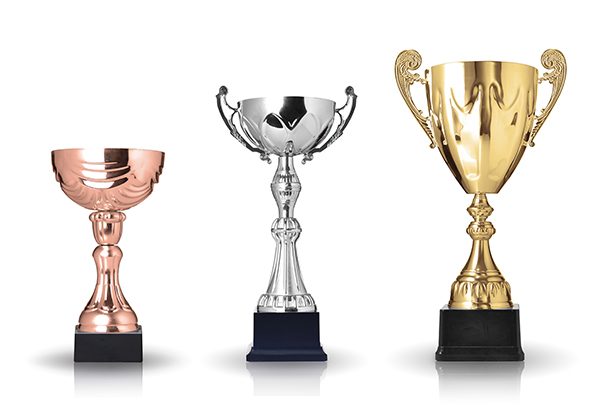trophy: (391, 46, 570, 368), (212, 82, 363, 367), (47, 145, 168, 373)
